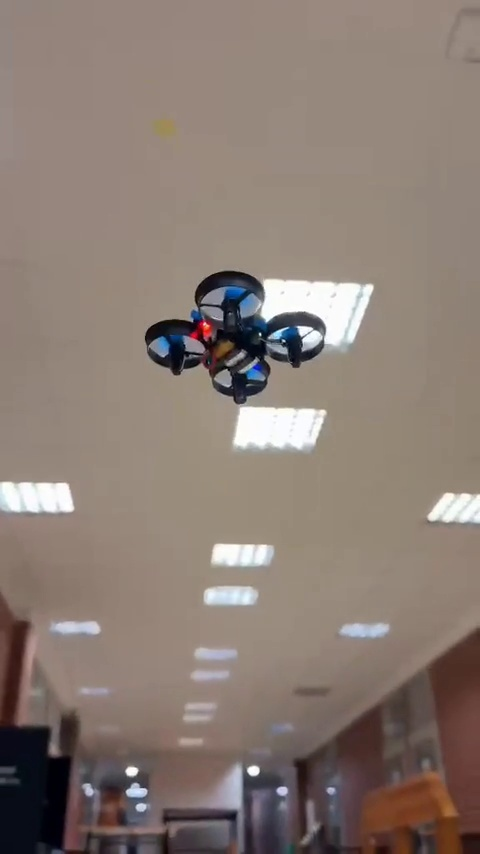drone: (144, 271, 333, 405)
